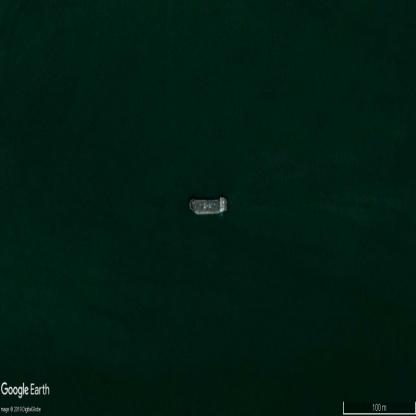ship: (189, 198, 227, 214)
